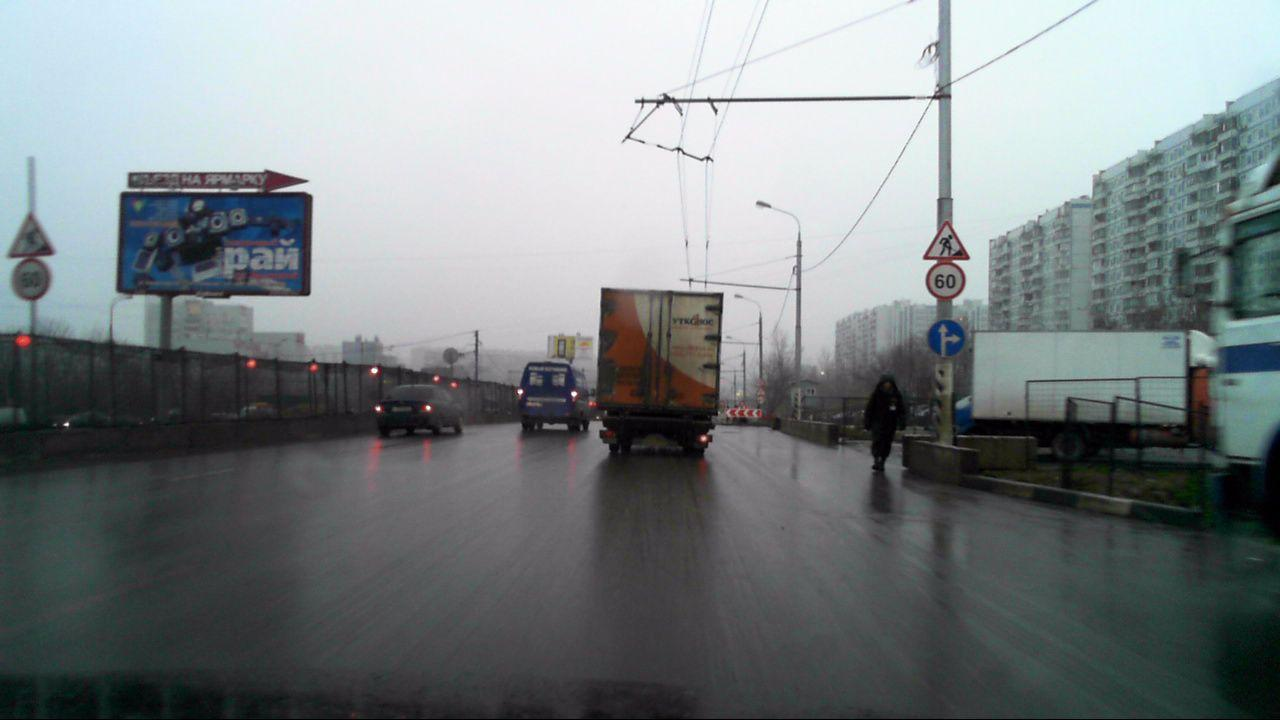1_25: (923, 219, 971, 261), (756, 378, 765, 387)
1_34_2: (725, 408, 762, 418)
3_24: (926, 262, 965, 300)
4_1_4: (927, 319, 964, 355)
